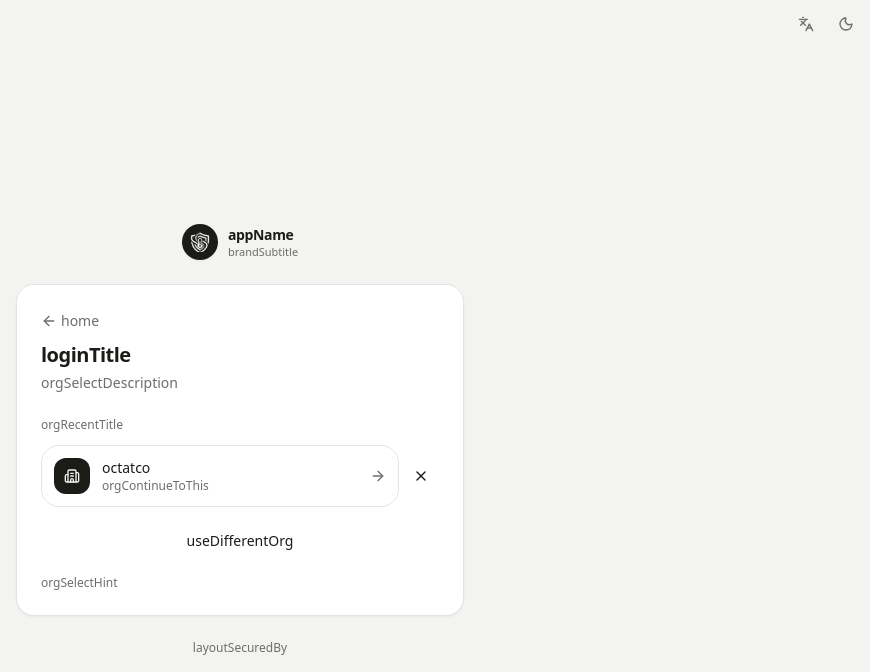
Test: OrgSelect — remembered organizations › falls back to the slug input once the last organization is forgotten
Check: the text "octatco" is shown, box 102,458 -> 150,477
Click the button named "orgForget:octatco": x=421, y=476 403,458 -> 439,494
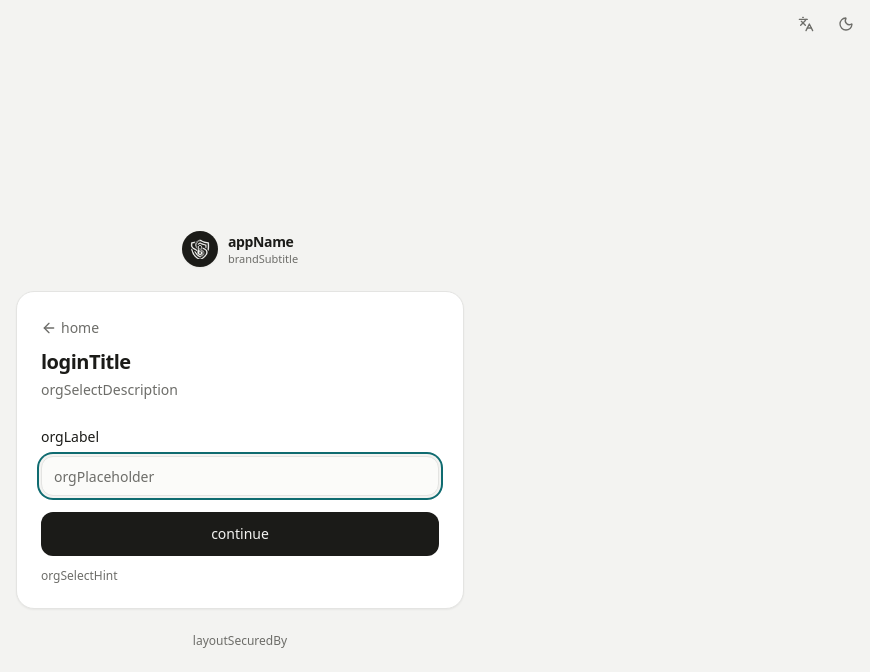
Check: the field labelled "orgLabel" is shown, box 41,456 -> 439,496
Check: the button "octatco" is gone
